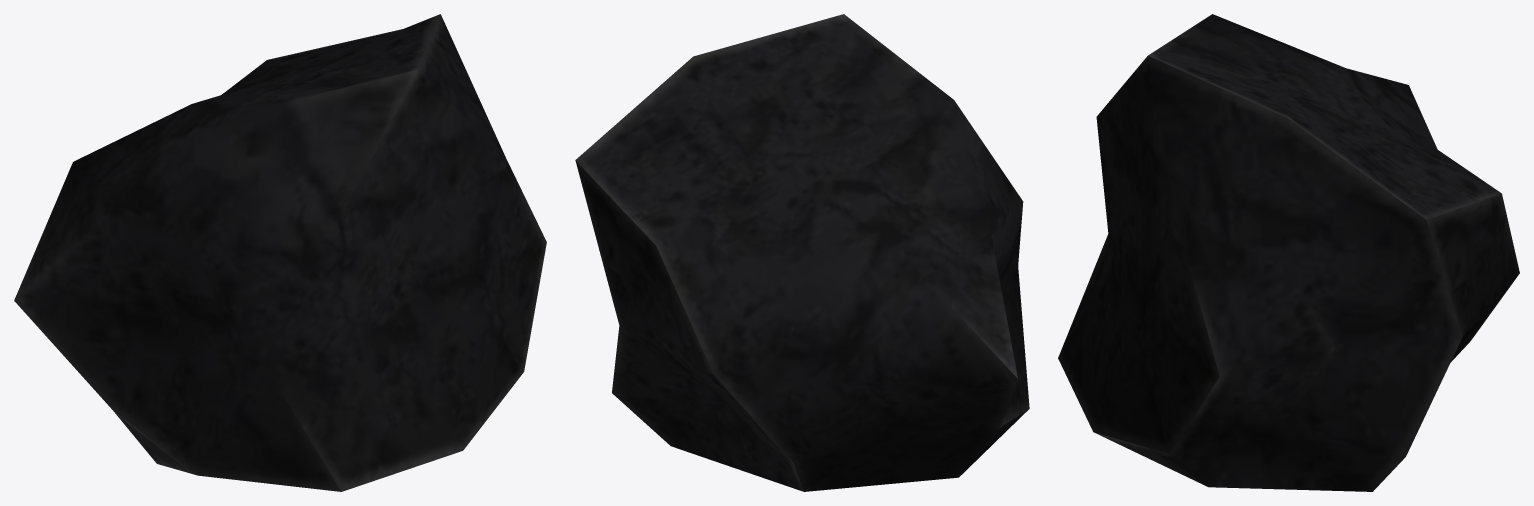
The model's file is lava_rock_0.glb.
The picture shows the model from 3 angles, left to right: view 1: azimuth 30°, elevation 25°; view 2: azimuth 150°, elevation 25°; view 3: azimuth 270°, elevation 25°; orthographic projection. The views are drawn at different scales.
Parts seen in each view (by area): view 1: te_prop_lava_rock_0; view 2: te_prop_lava_rock_0; view 3: te_prop_lava_rock_0.
Boxes of the visible parts, bbox=[...] form: te_prop_lava_rock_0: bbox=[14, 14, 546, 491]; te_prop_lava_rock_0: bbox=[575, 14, 1029, 491]; te_prop_lava_rock_0: bbox=[1058, 14, 1519, 491].
Bounding box in the file's own units: 0.2114 × 0.1748 × 0.1829.
1 material, 1 textured.
